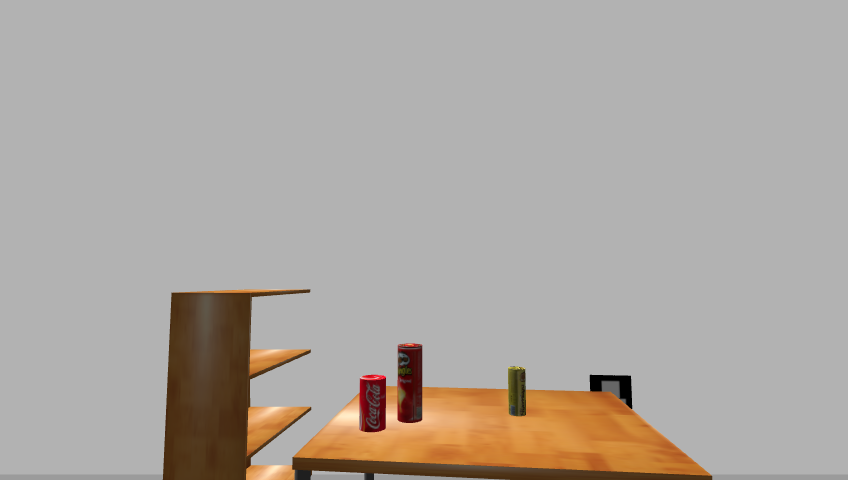aruco marker: (585, 373, 637, 413)
biscuits pack: (507, 366, 528, 418)
bookshelf: (160, 287, 318, 480)
coke can: (358, 375, 387, 433)
dinner table: (286, 386, 719, 480)
pringles can: (395, 343, 425, 425)
